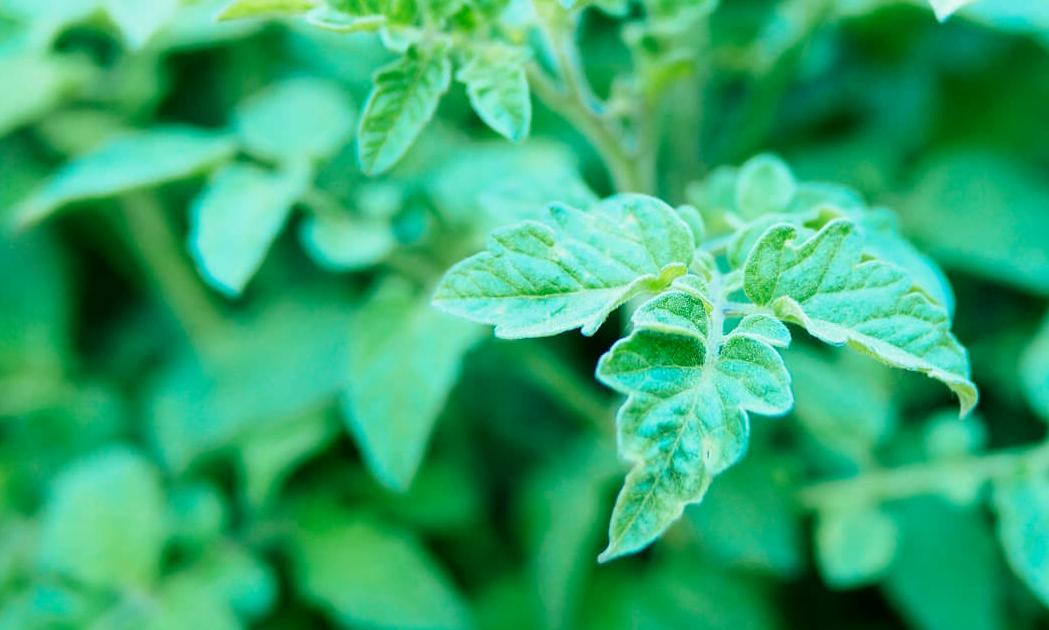Tomato leaf: (709, 181, 1001, 415), (571, 264, 769, 592), (437, 191, 711, 358)
